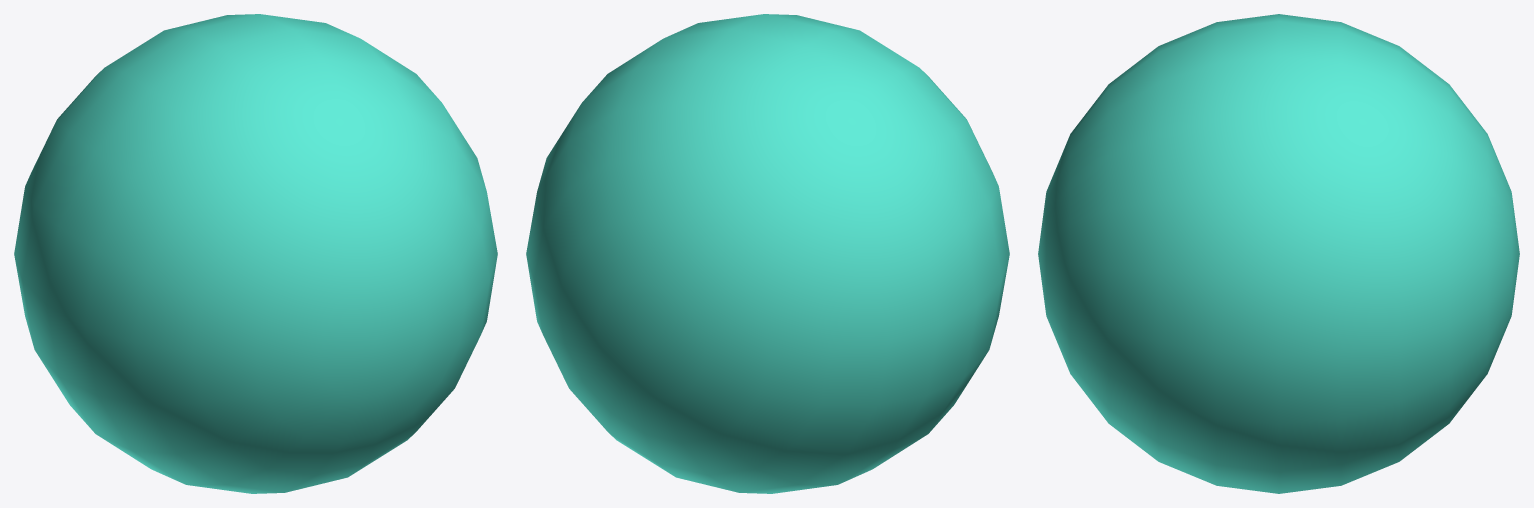
The picture shows the model from 3 angles, left to right: view 1: azimuth 30°, elevation 25°; view 2: azimuth 150°, elevation 25°; view 3: azimuth 270°, elevation 25°; orthographic projection.
Size of the model in its own units: 2 by 1.97 by 2.
